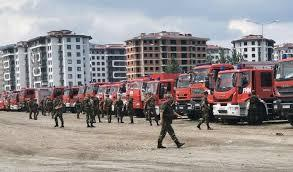Fire-engine: (214, 67, 279, 116)
